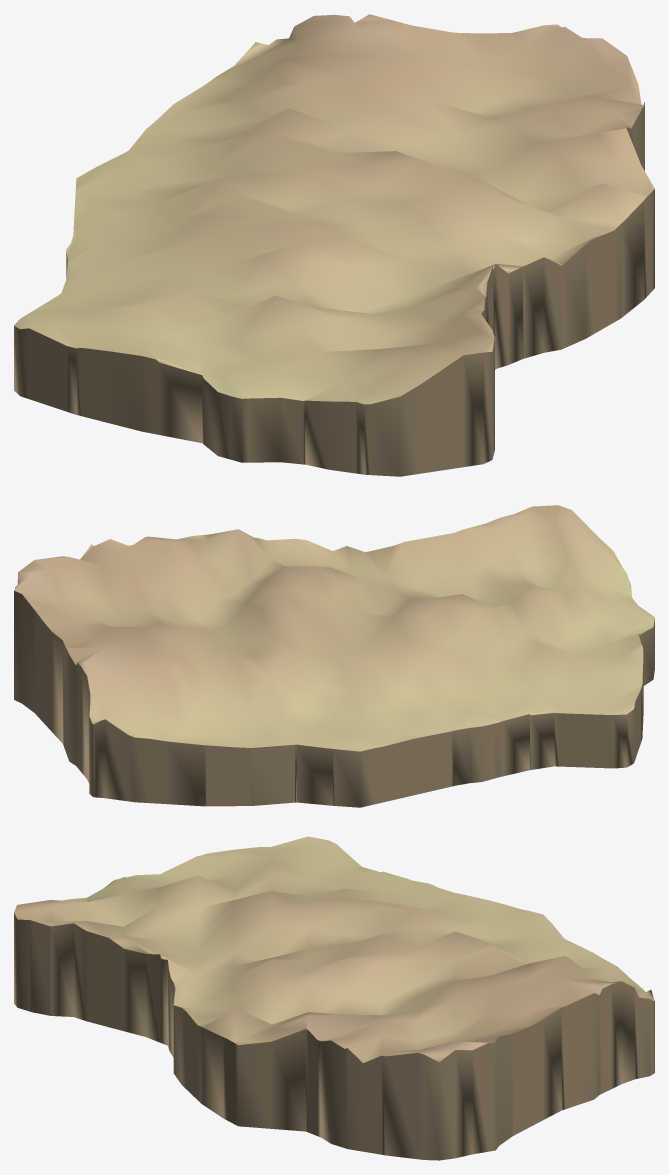
File: LSO.glb
The picture shows the model from 3 angles, top to bottom: view 1: azimuth 30°, elevation 25°; view 2: azimuth 150°, elevation 25°; view 3: azimuth 270°, elevation 25°; orthographic projection. The views are drawn at different scales.
Visible parts, largest first — view 1: LSO; view 2: LSO; view 3: LSO.
Boxes of the visible parts, x1,y1,x2,y2 form: LSO: (14,14,654,476); LSO: (14,505,654,807); LSO: (14,836,654,1160).
Size of the model in its own units: 1.76 by 0.338 by 1.78.
